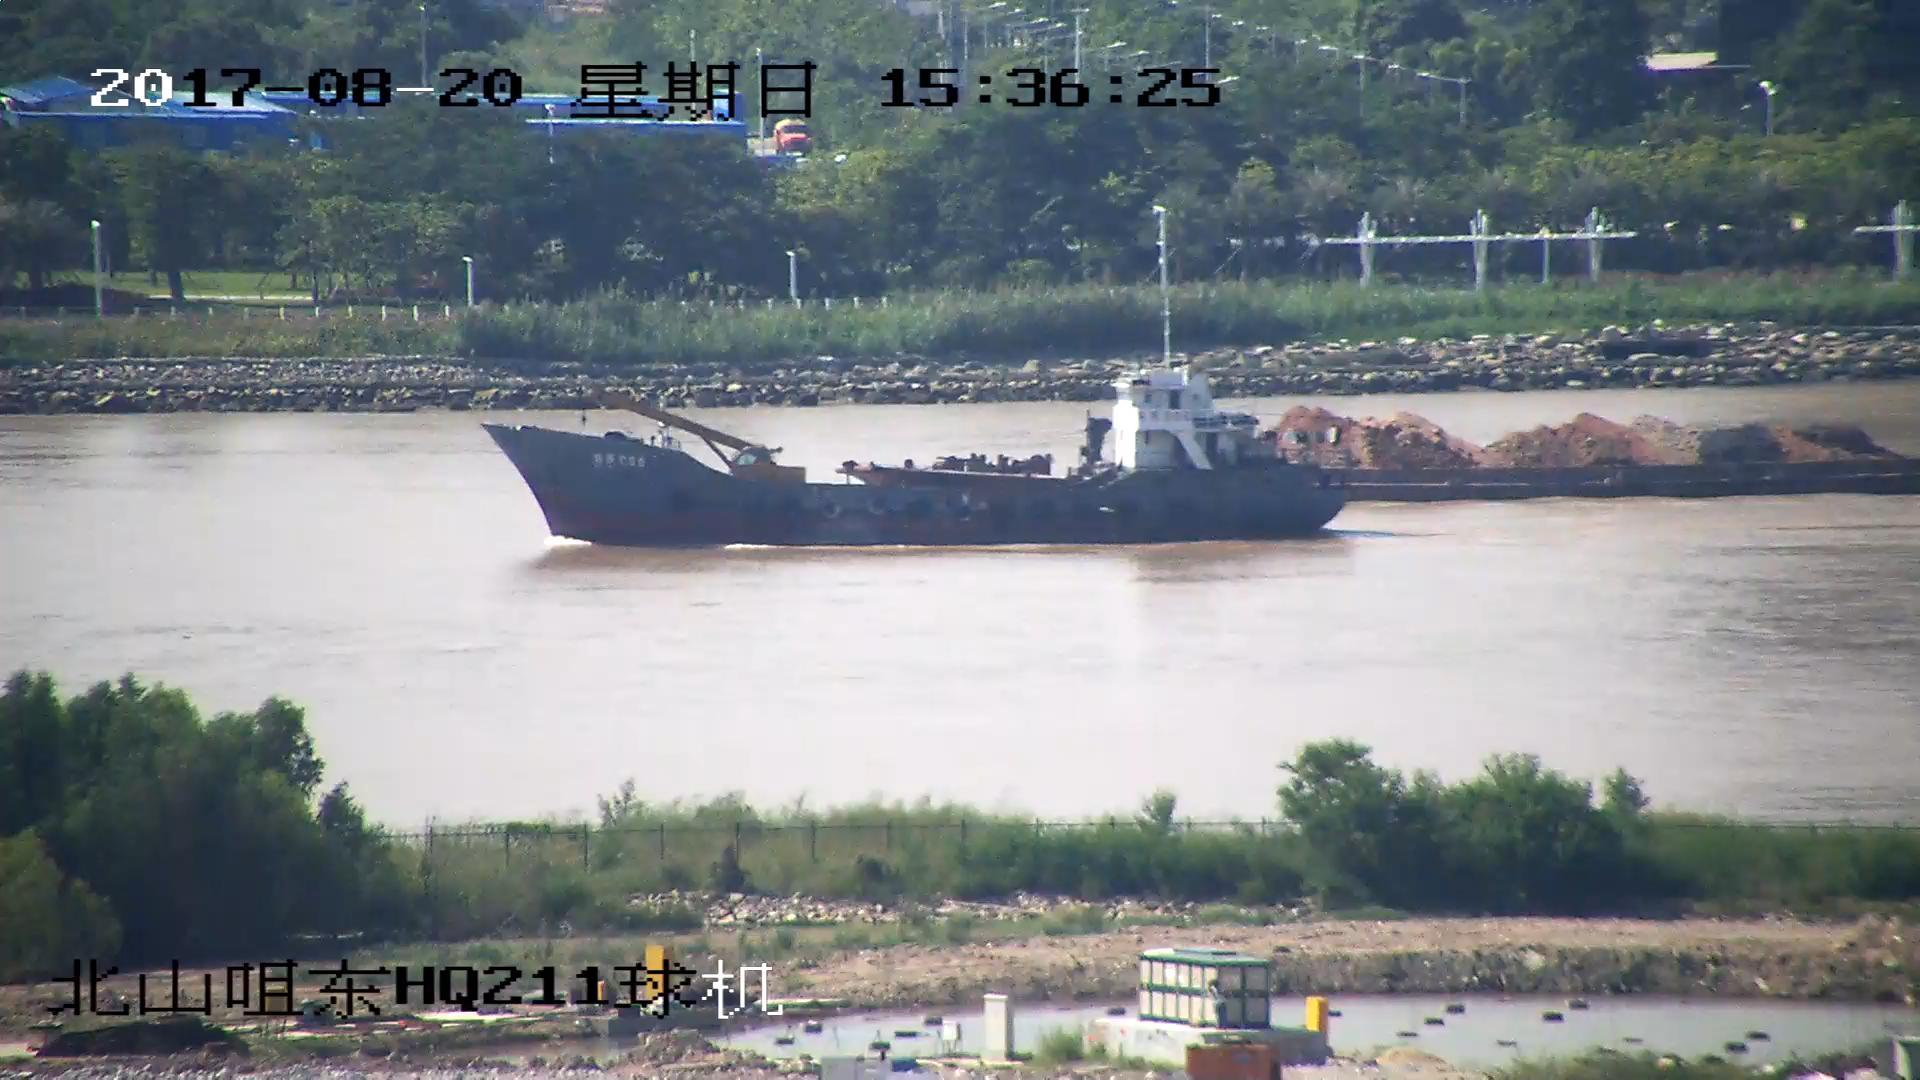Ship: (477, 258, 1341, 547), (836, 400, 1920, 500)
